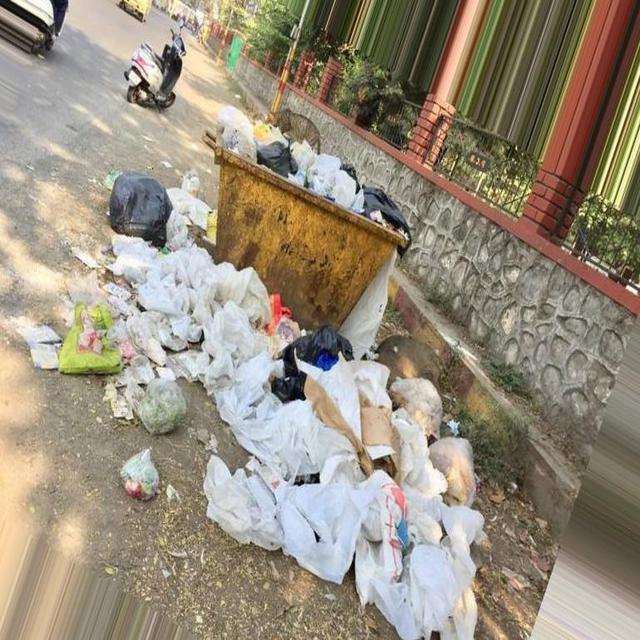garbage: (186, 302, 495, 639), (103, 157, 194, 449), (207, 119, 408, 230)
